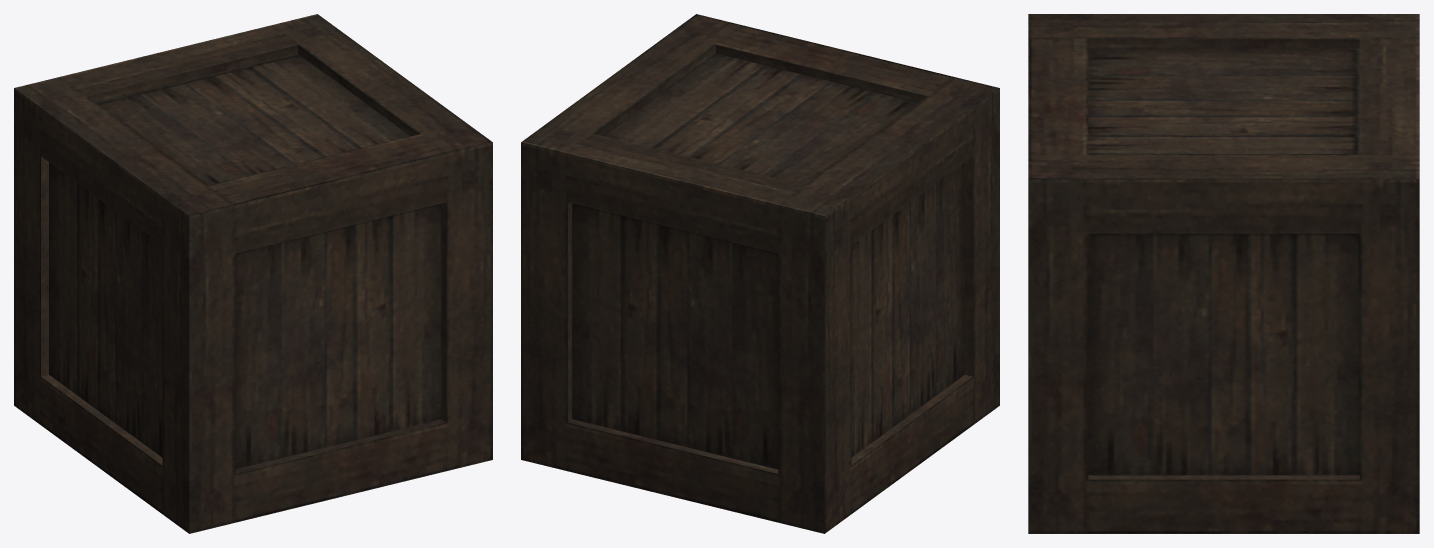
The model's file is wooden_crate_6.dae.
The picture shows the model from 3 angles, left to right: view 1: azimuth 30°, elevation 25°; view 2: azimuth 150°, elevation 25°; view 3: azimuth 270°, elevation 25°; orthographic projection. The views are drawn at different scales.
Parts seen in each view (by area): view 1: wooden_crate_6; view 2: wooden_crate_6; view 3: wooden_crate_6.
Part boxes in pixels (left/top/right/bottom): wooden_crate_6: left=14, top=14, right=492, bottom=533; wooden_crate_6: left=521, top=14, right=999, bottom=533; wooden_crate_6: left=1028, top=14, right=1419, bottom=533.
Bounding box in the file's own units: 0.75 × 0.75 × 0.75.
Materials: 1 (1 with a texture image).
